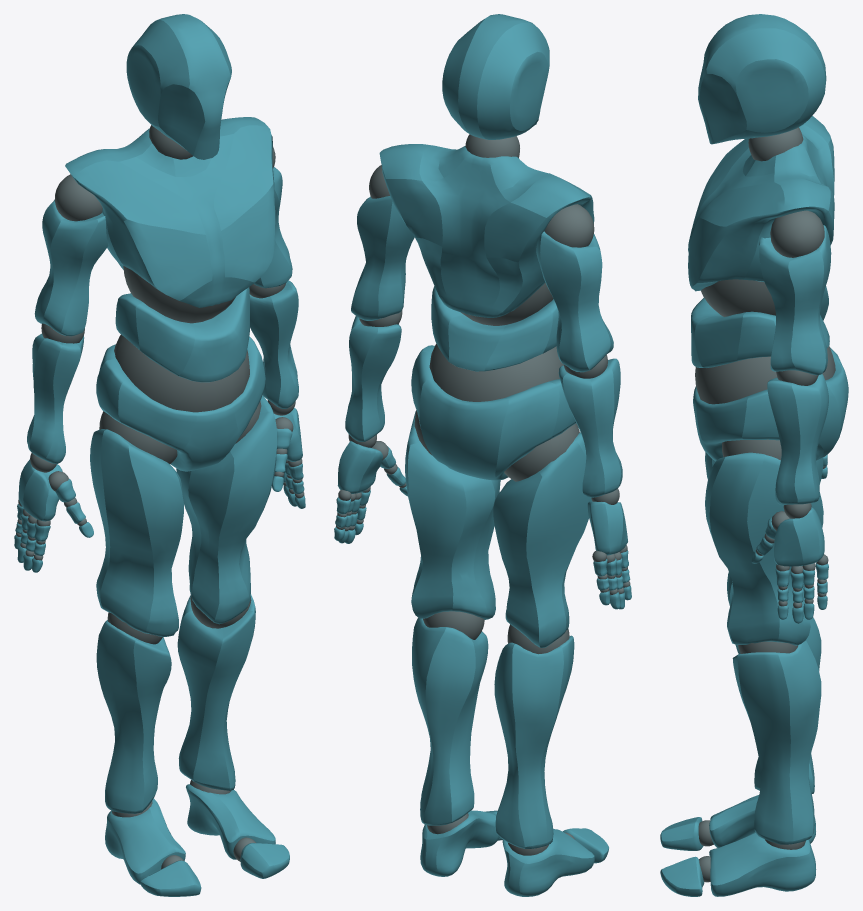
The model's file is Y_Bot_posed2.fbx.
3 views of the same model, side by side, from view 1: azimuth 30°, elevation 25°; view 2: azimuth 150°, elevation 25°; view 3: azimuth 270°, elevation 25° (orthographic). The views are drawn at different scales.
Visible parts, largest first — view 1: Alpha_Surface, Alpha_Joints; view 2: Alpha_Surface, Alpha_Joints; view 3: Alpha_Surface, Alpha_Joints.
Part boxes in pixels (x1,y1,x2,y2): Alpha_Surface: [14, 14, 305, 896]; Alpha_Joints: [16, 125, 304, 869]; Alpha_Surface: [334, 14, 631, 896]; Alpha_Joints: [336, 134, 630, 855]; Alpha_Surface: [660, 14, 848, 896]; Alpha_Joints: [695, 127, 835, 882].
Bounding box in the file's own units: 62.35 × 180 × 36.43.
